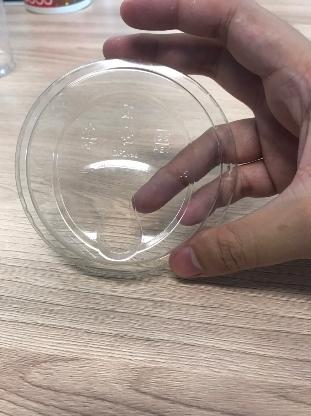Others: (13, 60, 242, 280)
